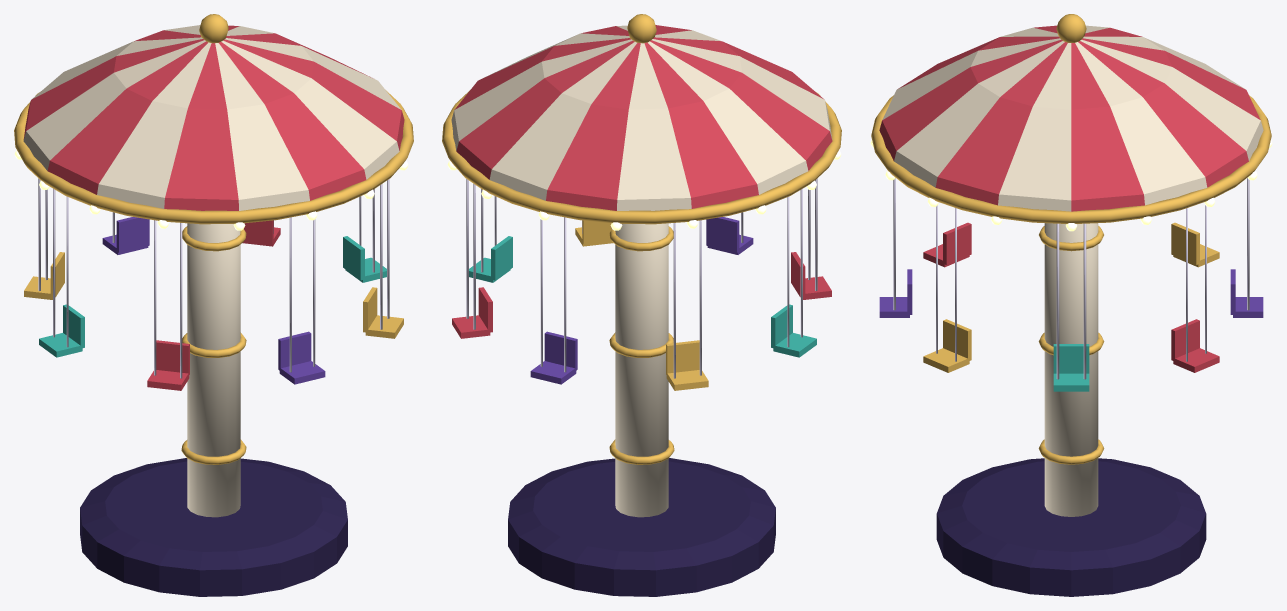
The model's file is swing-ride.glb.
The picture shows the model from 3 angles, left to right: view 1: azimuth 30°, elevation 25°; view 2: azimuth 150°, elevation 25°; view 3: azimuth 270°, elevation 25°; orthographic projection.
Visible parts, largest first — view 1: canopy, base, column, canopy-rim, back-2, back-6, back-5, back-0, seat-6, top, seat-4, seat-5 (+6 smaller); view 2: canopy, base, column, canopy-rim, back-6, back-2, back-3, back-0, seat-2, top, seat-4, seat-3 (+6 smaller); view 3: canopy, base, column, canopy-rim, back-0, back-3, back-5, back-7, back-1, seat-1, seat-7, top (+7 smaller).
Boxes of the visible parts, x1=… form: canopy: x1=23, y1=25, x2=404, y2=210; base: x1=80, y1=458, x2=347, y2=596; column: x1=187, y1=223, x2=240, y2=517; canopy-rim: x1=14, y1=90, x2=413, y2=224; back-2: x1=116, y1=217, x2=149, y2=252; back-6: x1=278, y1=331, x2=311, y2=370; back-5: x1=156, y1=340, x2=189, y2=375; back-0: x1=343, y1=236, x2=364, y2=280; seat-6: x1=279, y1=361, x2=325, y2=384; top: x1=199, y1=14, x2=228, y2=43; seat-4: x1=39, y1=333, x2=82, y2=357; seat-5: x1=147, y1=370, x2=189, y2=390; canopy: x1=451, y1=25, x2=832, y2=210; base: x1=508, y1=458, x2=775, y2=596; column: x1=615, y1=223, x2=668, y2=517; canopy-rim: x1=442, y1=90, x2=841, y2=224; back-6: x1=706, y1=217, x2=739, y2=252; back-2: x1=544, y1=331, x2=577, y2=370; back-3: x1=666, y1=340, x2=699, y2=375; back-0: x1=491, y1=236, x2=512, y2=280; seat-2: x1=530, y1=361, x2=576, y2=384; top: x1=627, y1=14, x2=656, y2=43; seat-4: x1=773, y1=333, x2=816, y2=357; seat-3: x1=666, y1=370, x2=708, y2=390; canopy: x1=879, y1=25, x2=1263, y2=211; base: x1=936, y1=458, x2=1206, y2=596; column: x1=1044, y1=223, x2=1098, y2=516; canopy-rim: x1=871, y1=95, x2=1271, y2=223; back-0: x1=1053, y1=344, x2=1089, y2=373; back-3: x1=1171, y1=222, x2=1199, y2=264; back-5: x1=943, y1=222, x2=971, y2=264; back-7: x1=943, y1=319, x2=971, y2=361; back-1: x1=1171, y1=319, x2=1199, y2=360; seat-1: x1=1173, y1=348, x2=1219, y2=372; seat-7: x1=923, y1=348, x2=969, y2=372; top: x1=1056, y1=14, x2=1086, y2=42.
Bounding box in the file's own units: 4.76 × 6.88 × 4.78.
